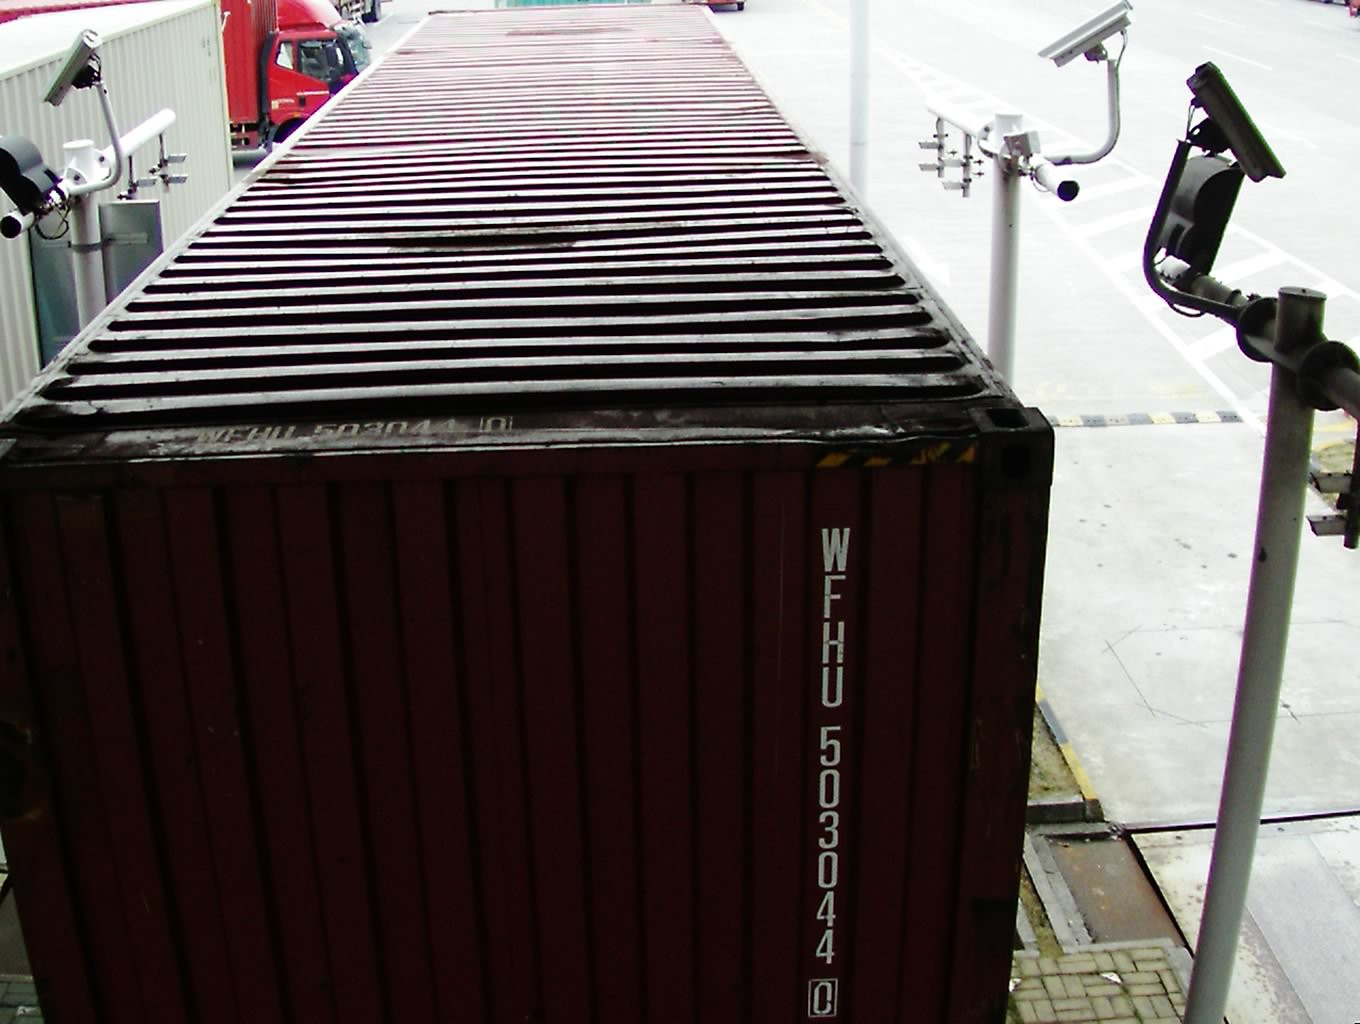words: (798, 518, 859, 1022)
